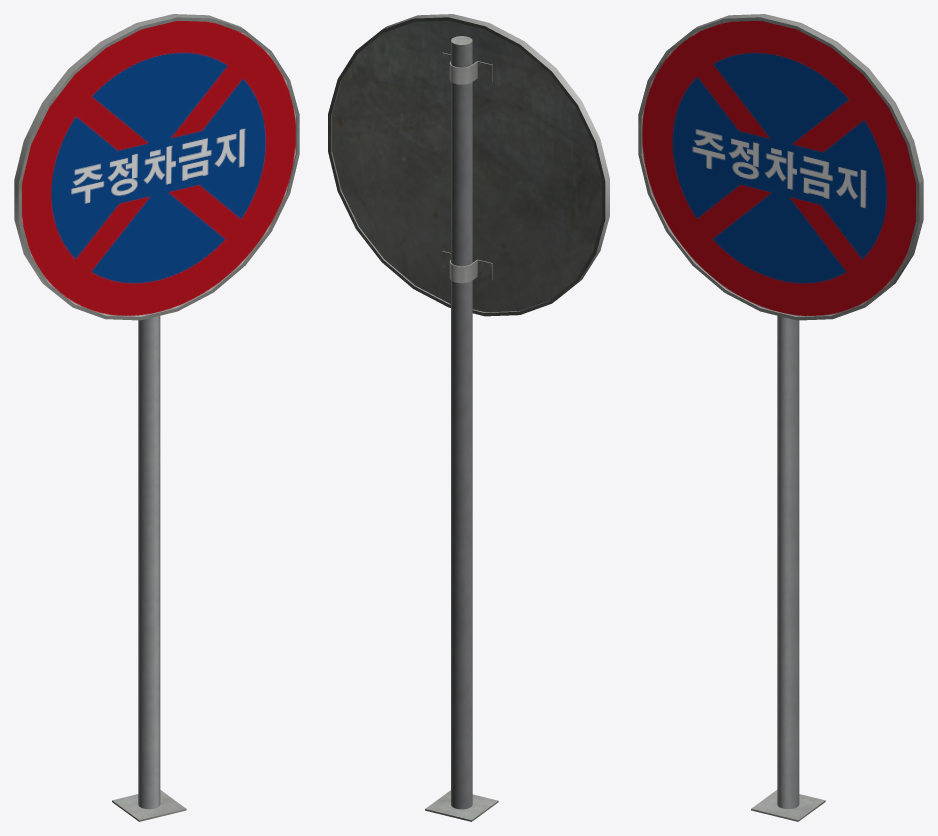
3 views of the same model, side by side, from view 1: azimuth 30°, elevation 25°; view 2: azimuth 150°, elevation 25°; view 3: azimuth 330°, elevation 25° (orthographic).
Visible parts, largest first — view 1: MainBuilding; view 2: MainBuilding; view 3: MainBuilding.
Boxes of the visible parts, x1,y1,x2,y2 form: MainBuilding: (14, 14, 299, 821); MainBuilding: (328, 14, 609, 821); MainBuilding: (638, 14, 923, 821).
Bounding box in the file's own units: 0.8923 × 2.4 × 0.15.
1 material, 1 textured.
